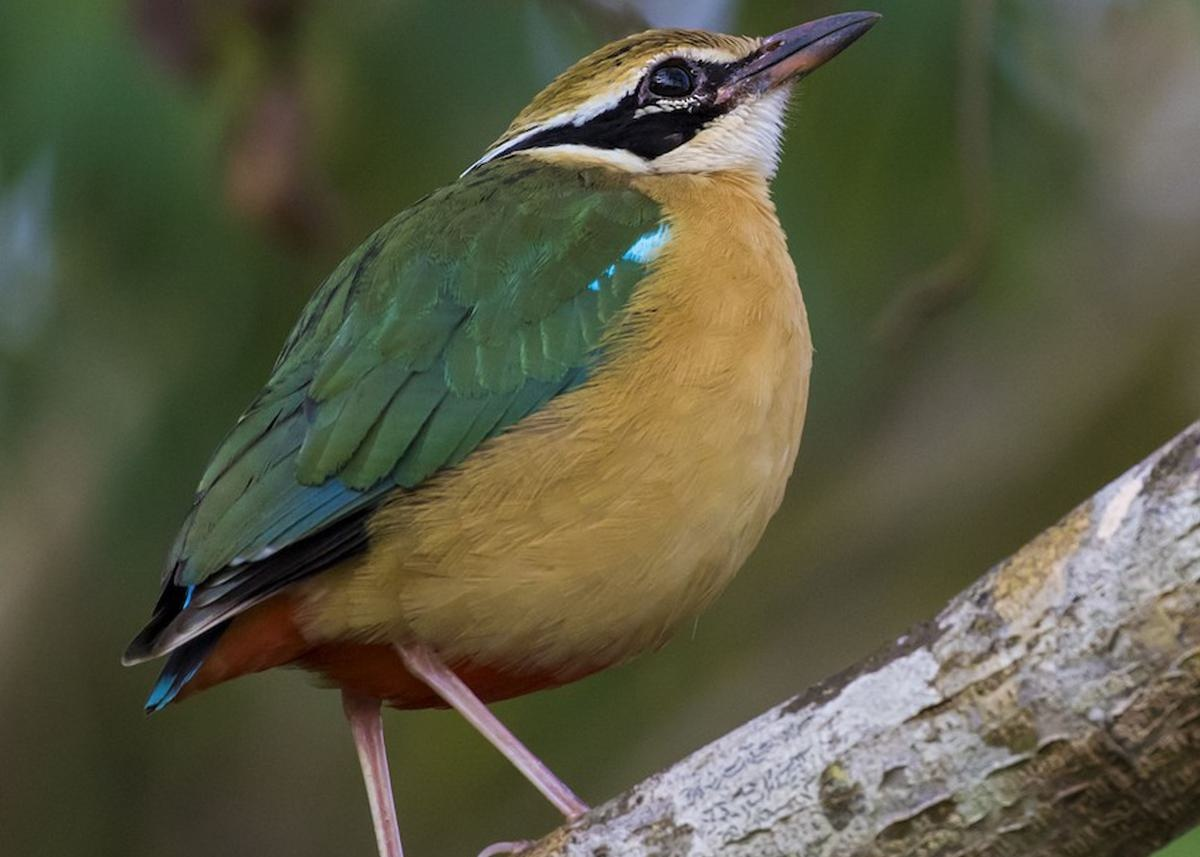pitta: (109, 2, 888, 811)
